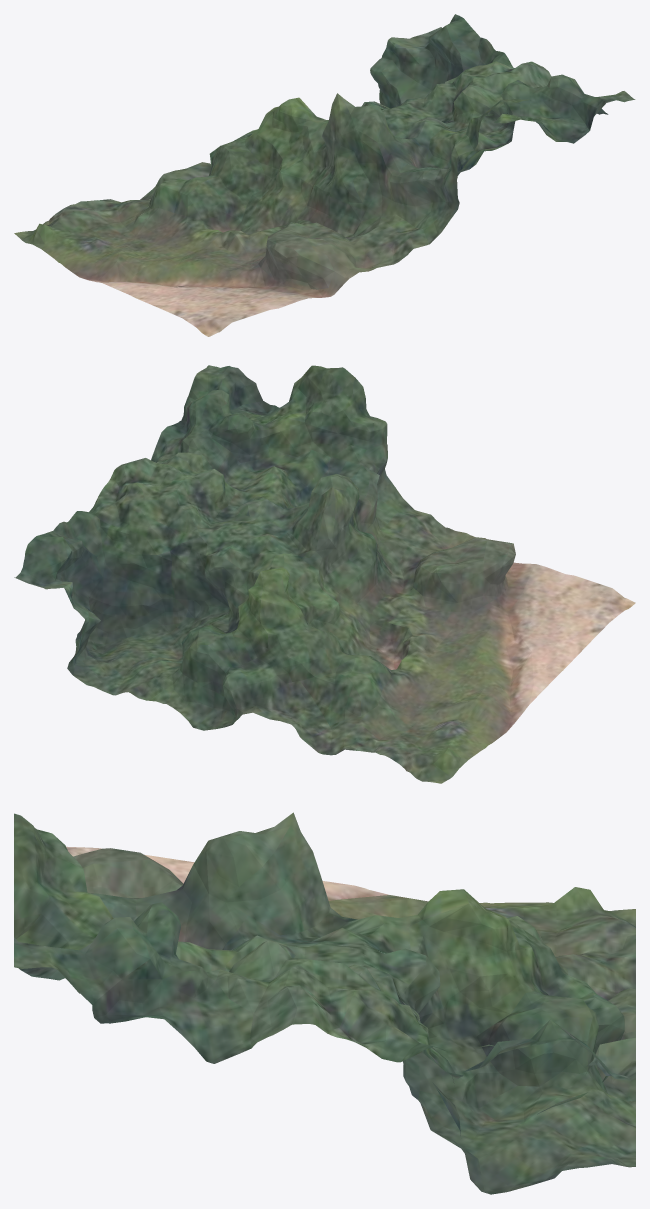
File: Tile__006__007_L21_0000320.glb
3 views of the same model, one above another, from view 1: azimuth 30°, elevation 25°; view 2: azimuth 150°, elevation 25°; view 3: azimuth 270°, elevation 25° (orthographic). The views are drawn at different scales.
Visible parts, largest first — view 1: root; view 2: root; view 3: root.
Part boxes in pixels (x1=…): root: x1=14, y1=14, x2=635, y2=336; root: x1=14, y1=365, x2=635, y2=783; root: x1=14, y1=812, x2=635, y2=1194.
Size of the model in its own units: 16.01 by 7.42 by 12.63.
Materials: 1 (1 with a texture image).
